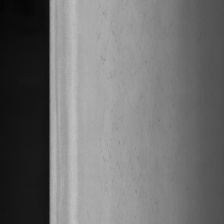silk_spot: (95, 0, 155, 186)
